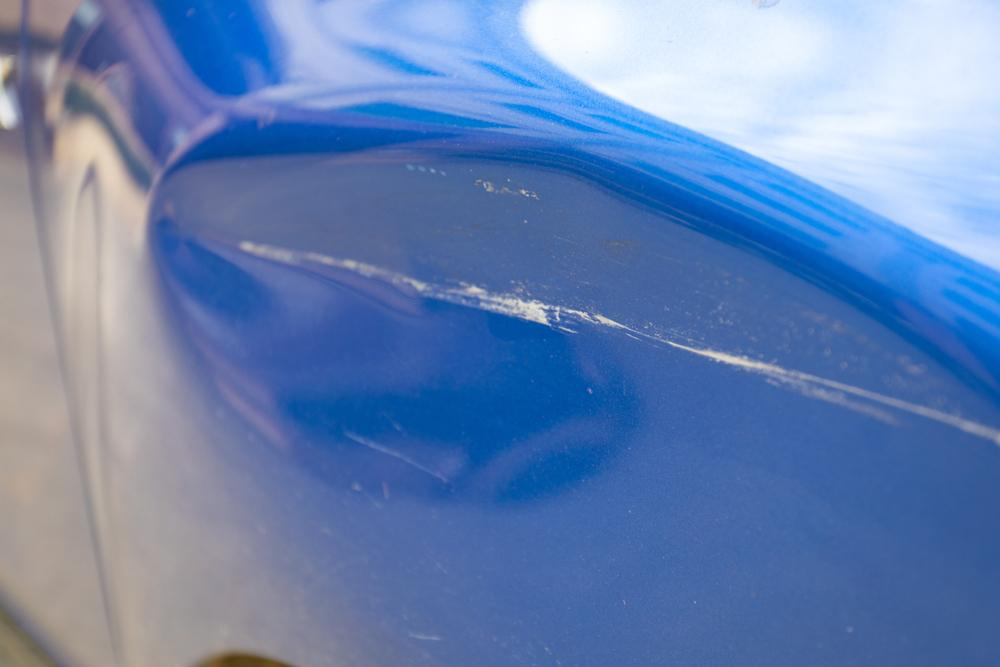dent: (156, 129, 629, 501)
